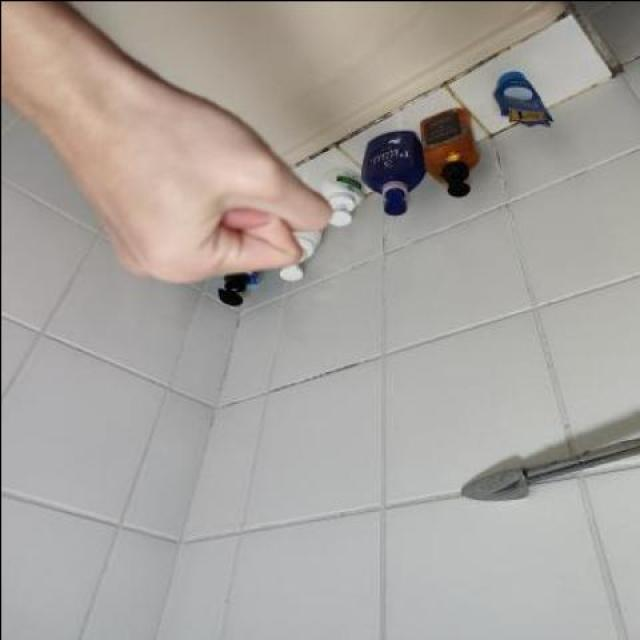fist: (6, 60, 330, 285)
